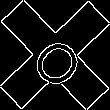O_NE: (21, 22, 89, 88)
